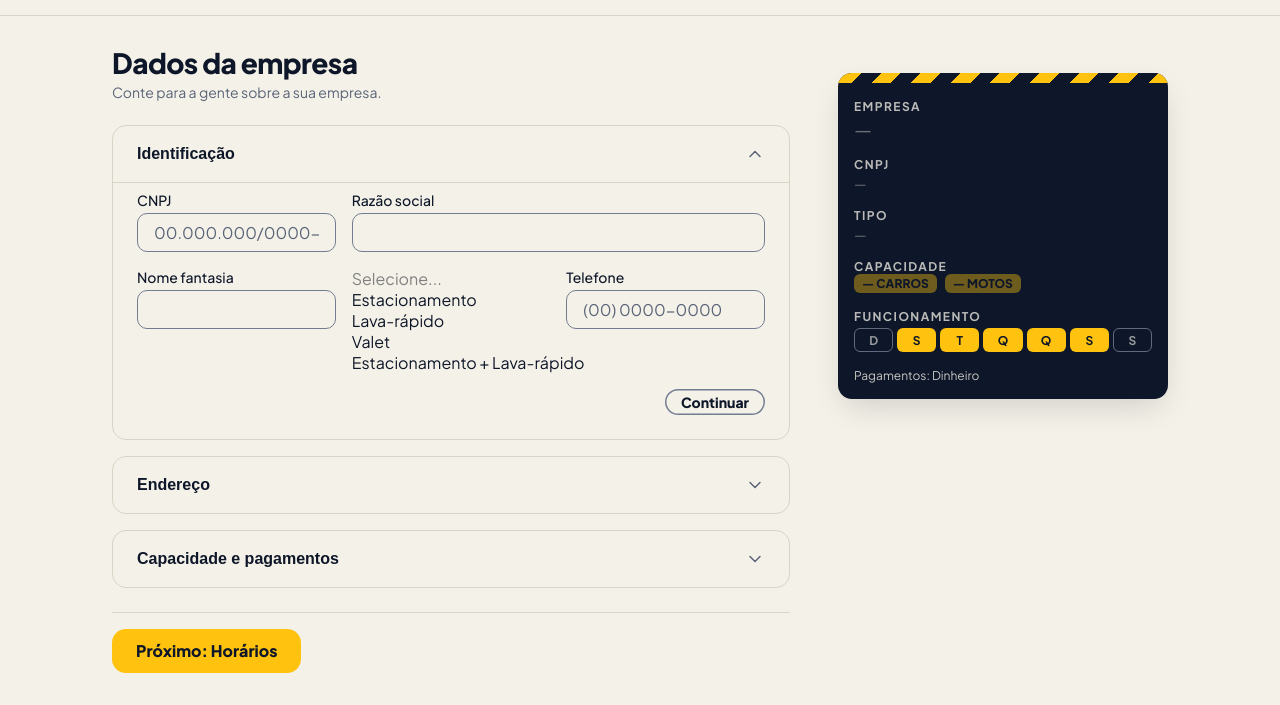
Test: OnboardingWizard: validação › não avança com tudo vazio, conta os campos e foca o primeiro inválido
(page scrolled)
Click the button "Próximo: Horários".
click(207, 651)  # box [112,629,302,673]
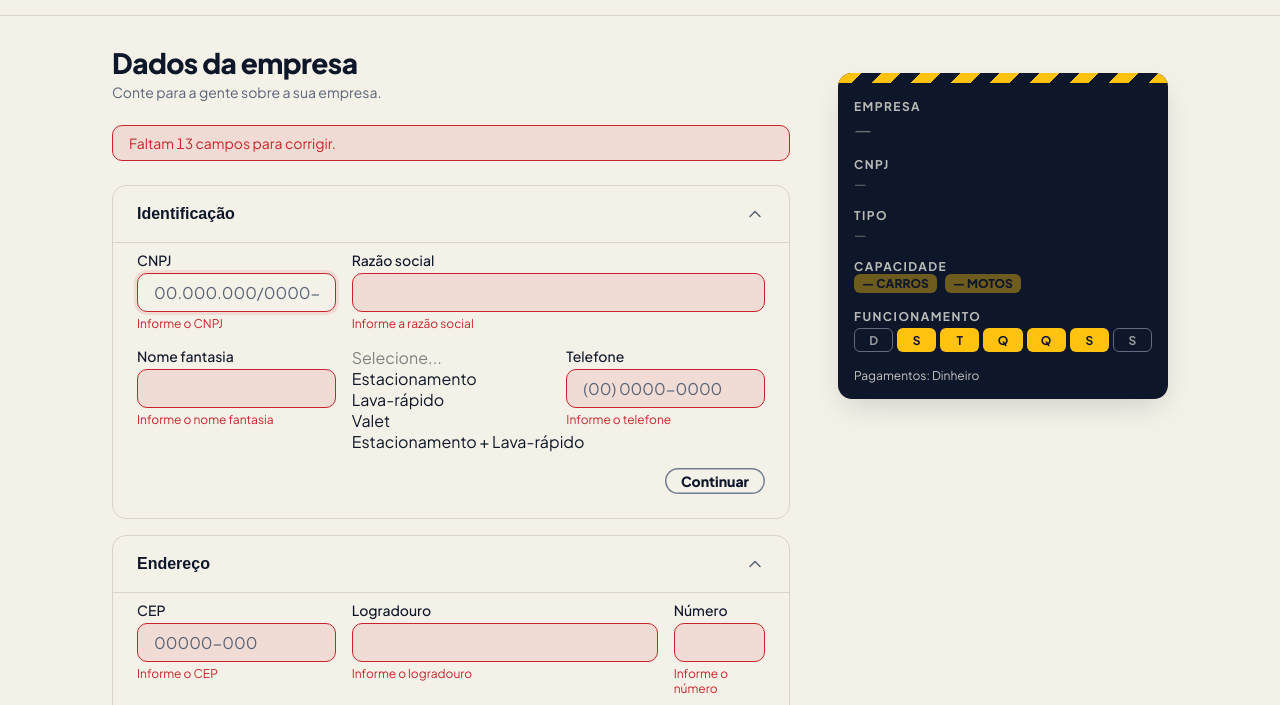
Expected: the heading "Dados da empresa" is shown, [112,45,357,80]
Expected: the message reads "Faltam 13 campos para corrigir.", [129,134,336,152]
Expected: the button "Endereço" is expanded, [113,536,789,592]
